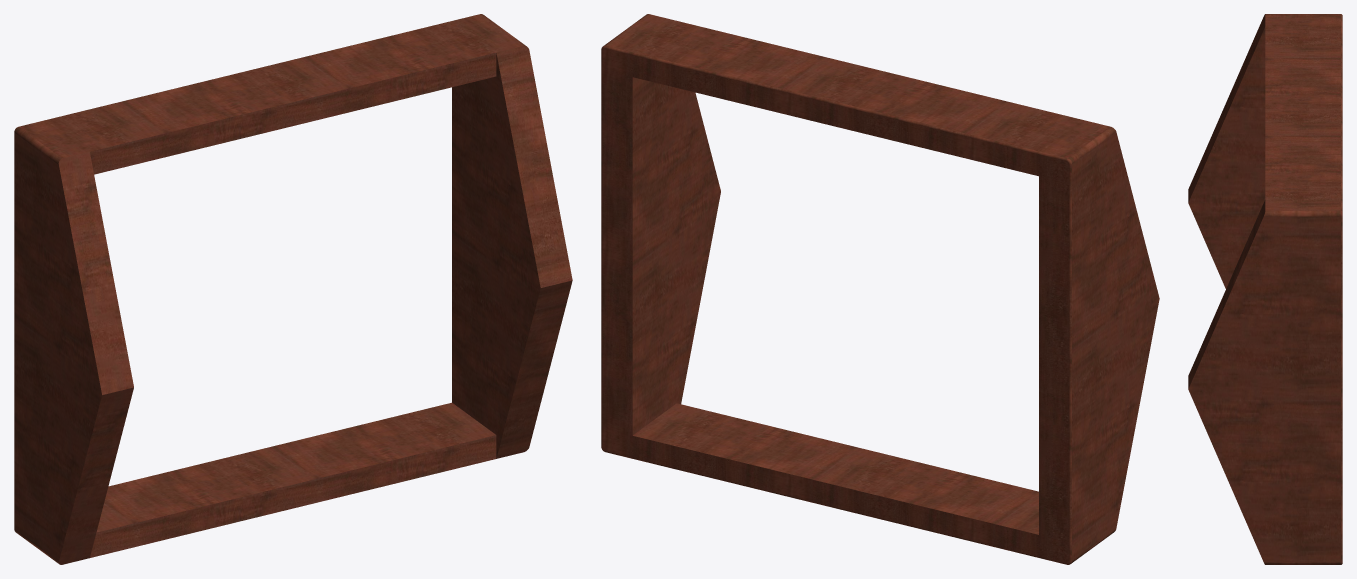
File: top.obj
3 views of the same model, side by side, from view 1: azimuth 30°, elevation 25°; view 2: azimuth 150°, elevation 25°; view 3: azimuth 270°, elevation 25° (orthographic). The views are drawn at different scales.
Visible parts, largest first — view 1: Body4; view 2: Body4; view 3: Body4.
Part boxes in pixels (<box>): Body4: <box>14,14,572,564</box>; Body4: <box>601,14,1159,564</box>; Body4: <box>1188,14,1342,564</box>.
Bounding box in the file's own units: 515 × 425 × 168.
Materials: 1 (1 with a texture image).
